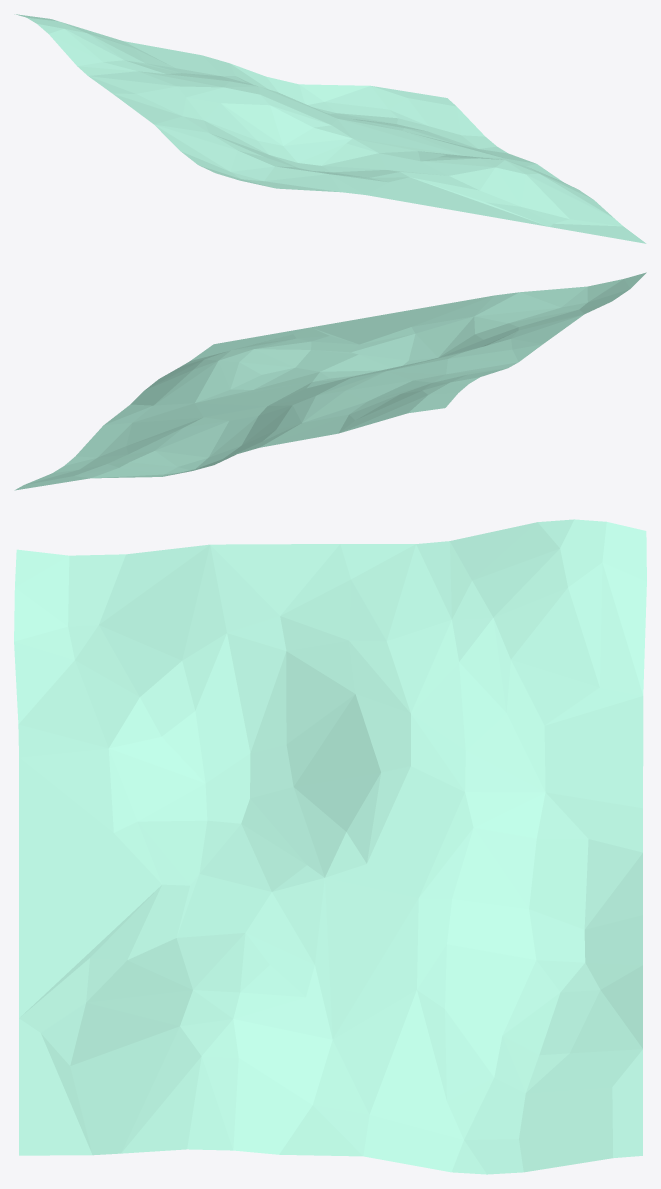
The model's file is sea.fbx.
The picture shows the model from 3 angles, top to bottom: view 1: azimuth 30°, elevation 25°; view 2: azimuth 150°, elevation 25°; view 3: azimuth 270°, elevation 25°; orthographic projection. The views are drawn at different scales.
Parts seen in each view (by area): view 1: 平面; view 2: 平面; view 3: 平面.
Part boxes in pixels (x1,y1,x2,y2): 平面: (14,14,646,243); 平面: (14,272,646,490); 平面: (14,519,646,1174).
Bounding box in the file's own units: 6158 × 2822 × 4980.
